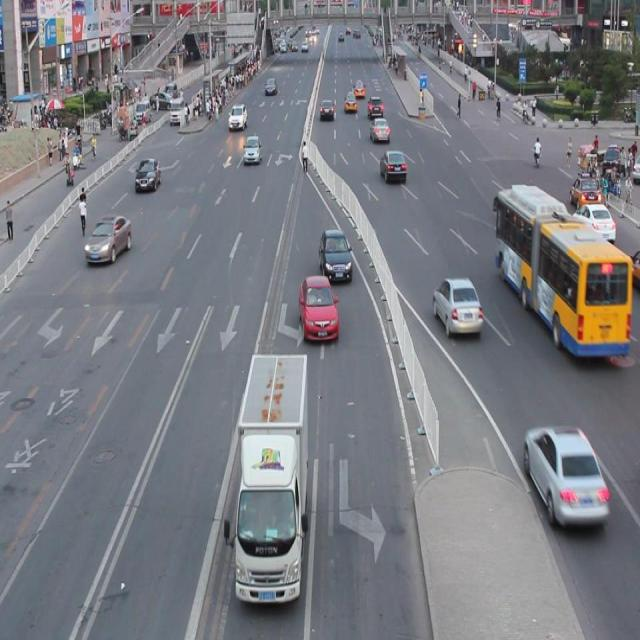bus: (233, 352, 308, 601)
car: (523, 424, 607, 526), (432, 276, 482, 336), (298, 274, 338, 341), (84, 212, 132, 264), (320, 230, 351, 283), (575, 202, 614, 241), (569, 175, 600, 210), (135, 158, 160, 192)
van: (496, 185, 629, 358)
